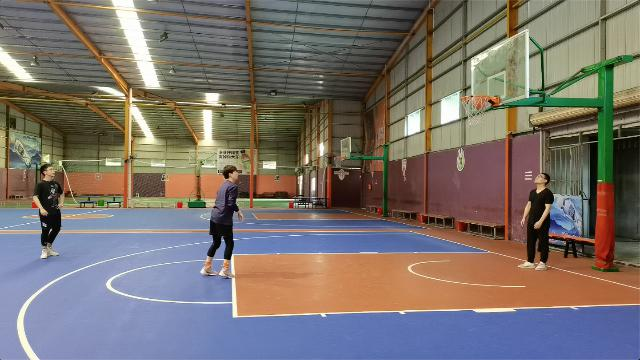basket: (460, 94, 490, 127)
goal: (470, 93, 488, 110)
